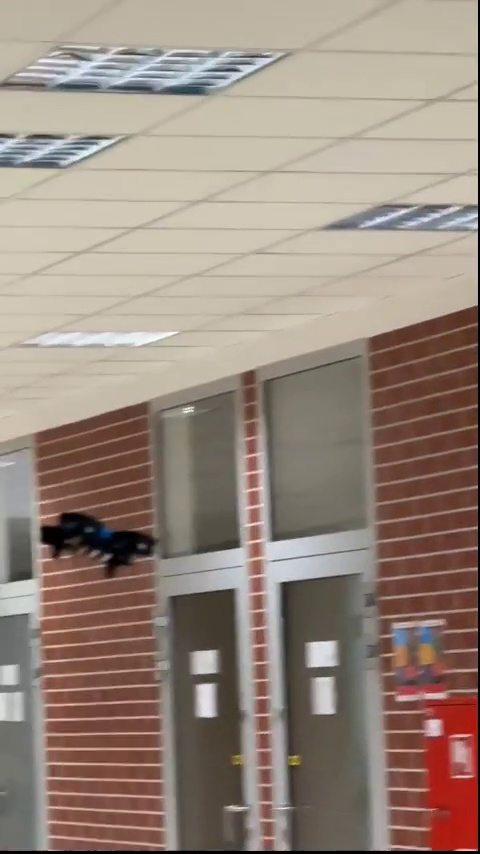drone: (35, 507, 167, 586)
